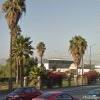Palm tree: (3, 0, 37, 77)
